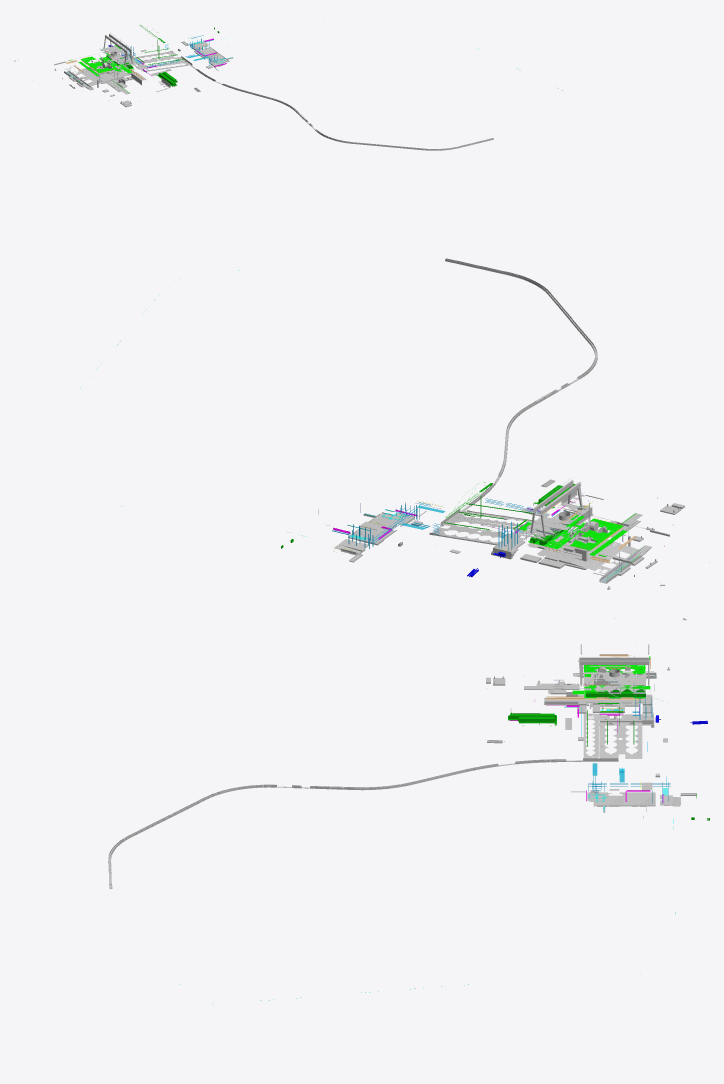
Rendered from area1300_movil.glb.
3 renders of one model, top to bottom at view 1: azimuth 30°, elevation 25°; view 2: azimuth 150°, elevation 25°; view 3: azimuth 270°, elevation 25°, orthographic. The views are drawn at different scales.
Parts seen in each view (by area): view 1: 1320-TR-291, 1323-SG-001, 1320-SG-100, SIN_TAG, 1313-CN-1406, 1313-SG-002; view 2: 1320-TR-291, 1320-SG-100, 1313-CN-1406, 1323-SG-001, 1313-SG-002, SIN_TAG, 1313-S-002, 1313-S-004; view 3: 1320-TR-291, 1320-SG-100, 1323-SG-001, SIN_TAG.
Part boxes in pixels (<box>): 1320-TR-291: <box>196,69,493,150</box>; 1323-SG-001: <box>194,47,229,66</box>; 1320-SG-100: <box>134,50,185,66</box>; SIN_TAG: <box>66,38,226,92</box>; 1313-CN-1406: <box>57,32,132,79</box>; 1313-SG-002: <box>72,67,109,86</box>; 1320-TR-291: <box>445,258,597,505</box>; 1320-SG-100: <box>429,517,518,545</box>; 1313-CN-1406: <box>528,478,667,561</box>; 1323-SG-001: <box>348,512,414,544</box>; 1313-SG-002: <box>571,539,638,574</box>; SIN_TAG: <box>333,479,709,577</box>; 1313-S-002: <box>564,518,625,556</box>; 1313-S-004: <box>527,507,585,549</box>; 1320-TR-291: <box>108,759,566,888</box>; 1320-SG-100: <box>600,722,642,758</box>; 1323-SG-001: <box>587,792,655,806</box>; SIN_TAG: <box>487,654,707,802</box>.
Bounding box in the file's own units: 895 × 103 × 682.
